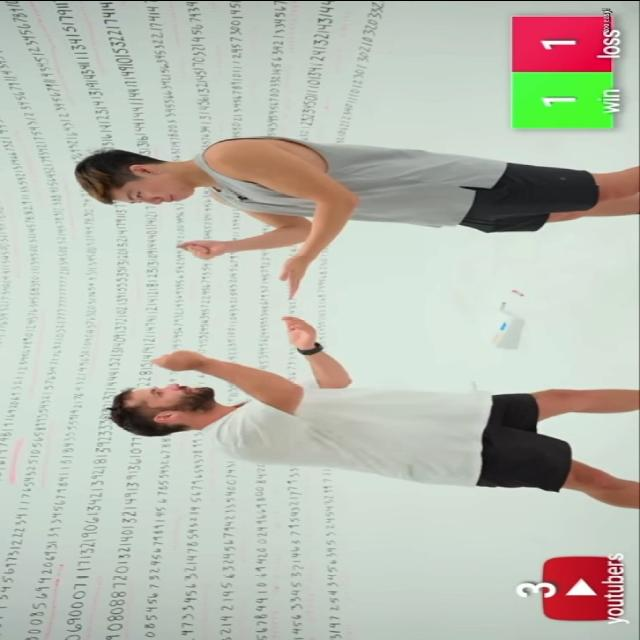Rock: (144, 349, 204, 372), (179, 240, 221, 258)
